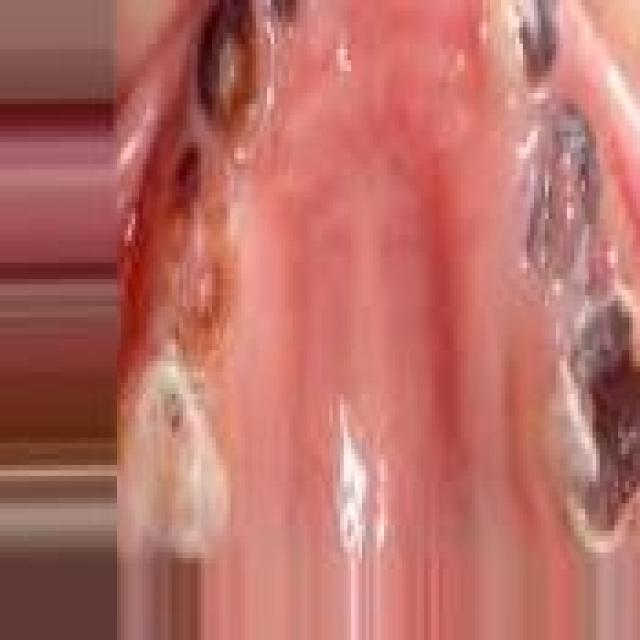caries: (548, 268, 640, 552), (145, 148, 237, 349), (514, 101, 607, 275), (140, 366, 224, 552), (190, 0, 268, 141), (490, 0, 574, 93), (263, 0, 300, 57)
